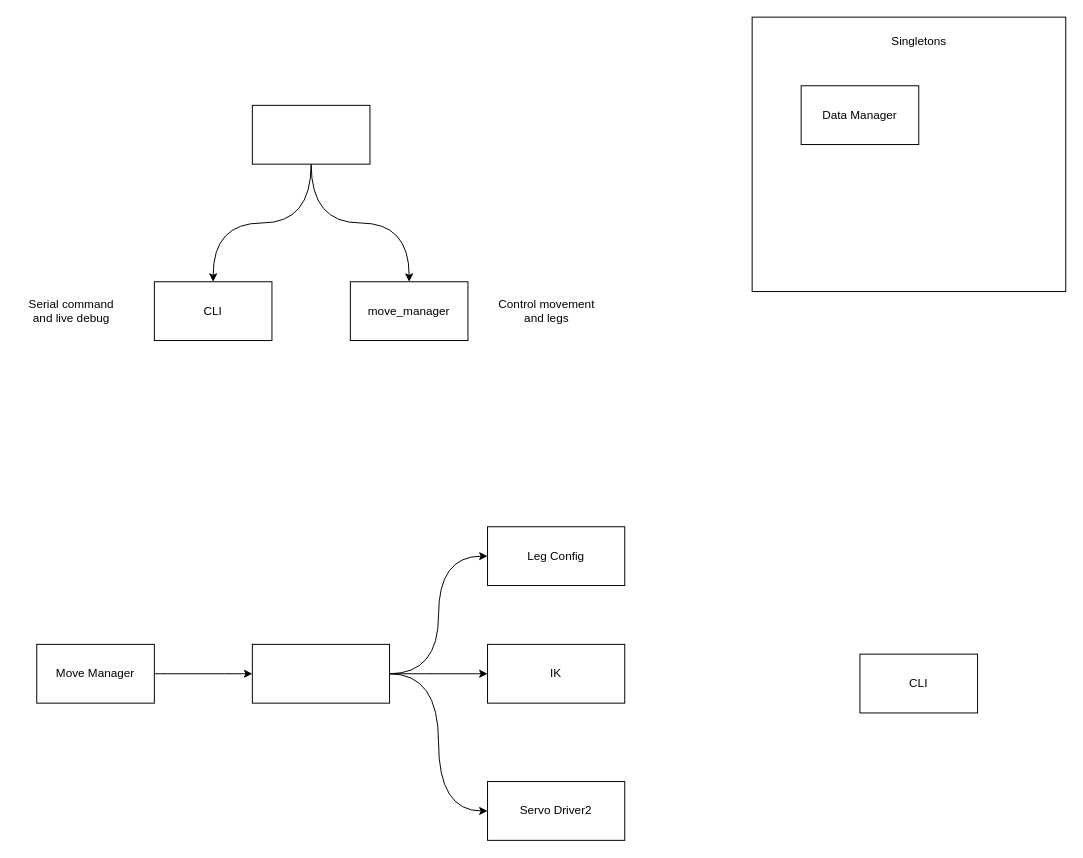
Image size: 1083x858. Some labels were removed from this diagram. Each missing label, with the centre of its shape:
Laracna: [310,134]
Leg Move Controller[]: [320,673]
